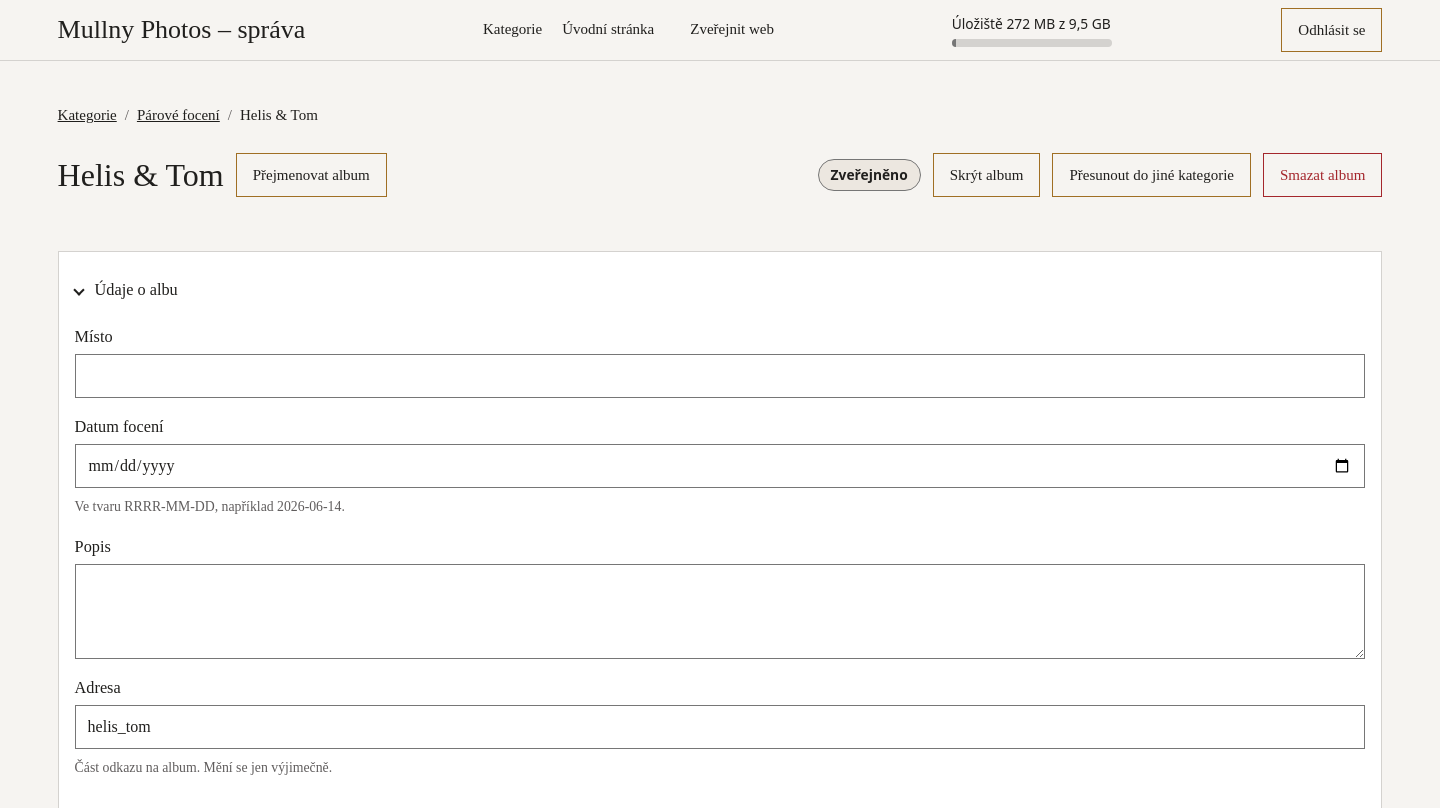
delete album › deletes photos first, then the row, and goes to the category; storage lowers
This screenshot has width=1440, height=808.
Expected: the heading "Helis & Tom" is shown, [58,156,224,194]
Click the button "Smazat album" at (1323, 175), box [1263,153,1382,197]
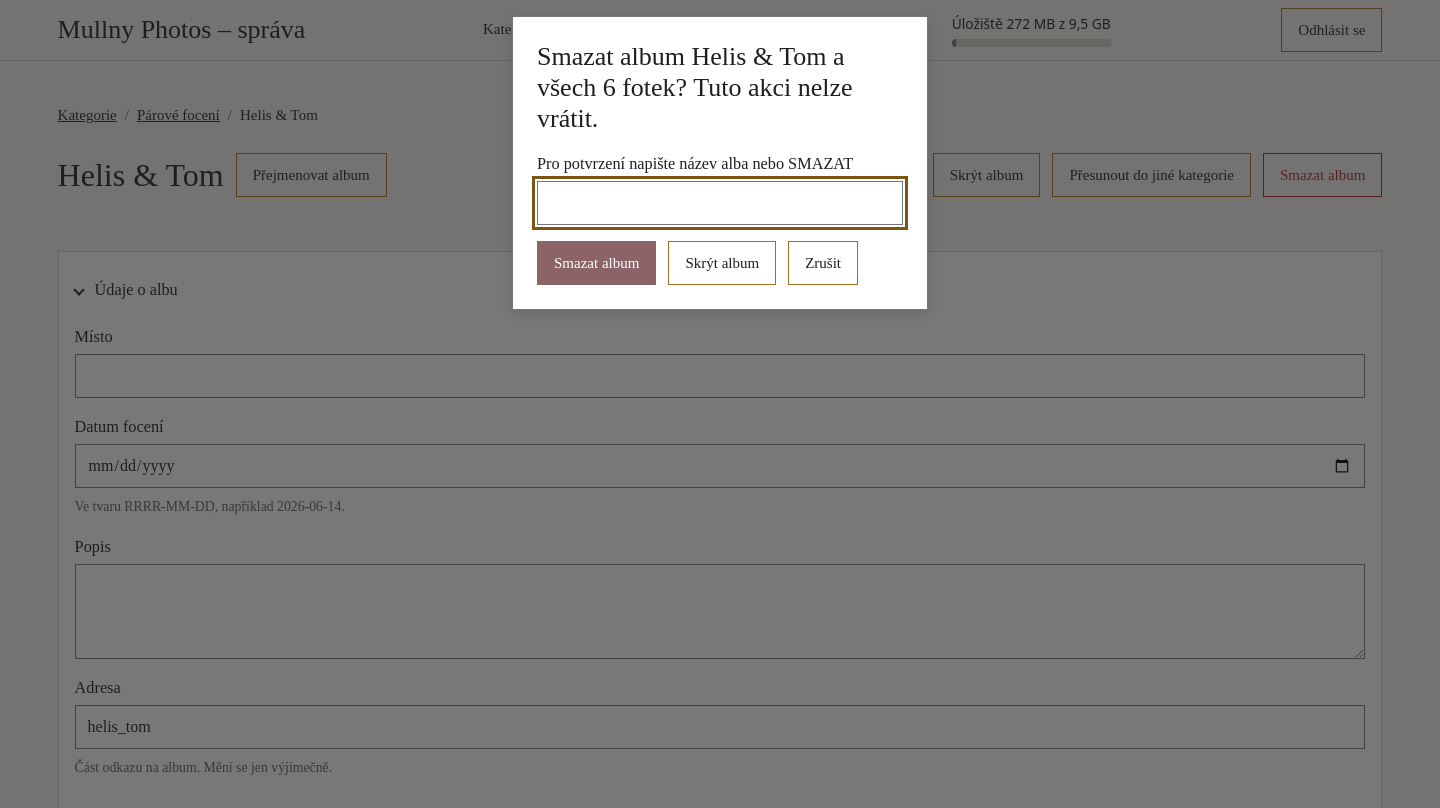
Type "nesprávně" into the field labelled "Pro potvrzení napište název alba nebo SMAZAT" at (720, 203), box [537,181,903,225]
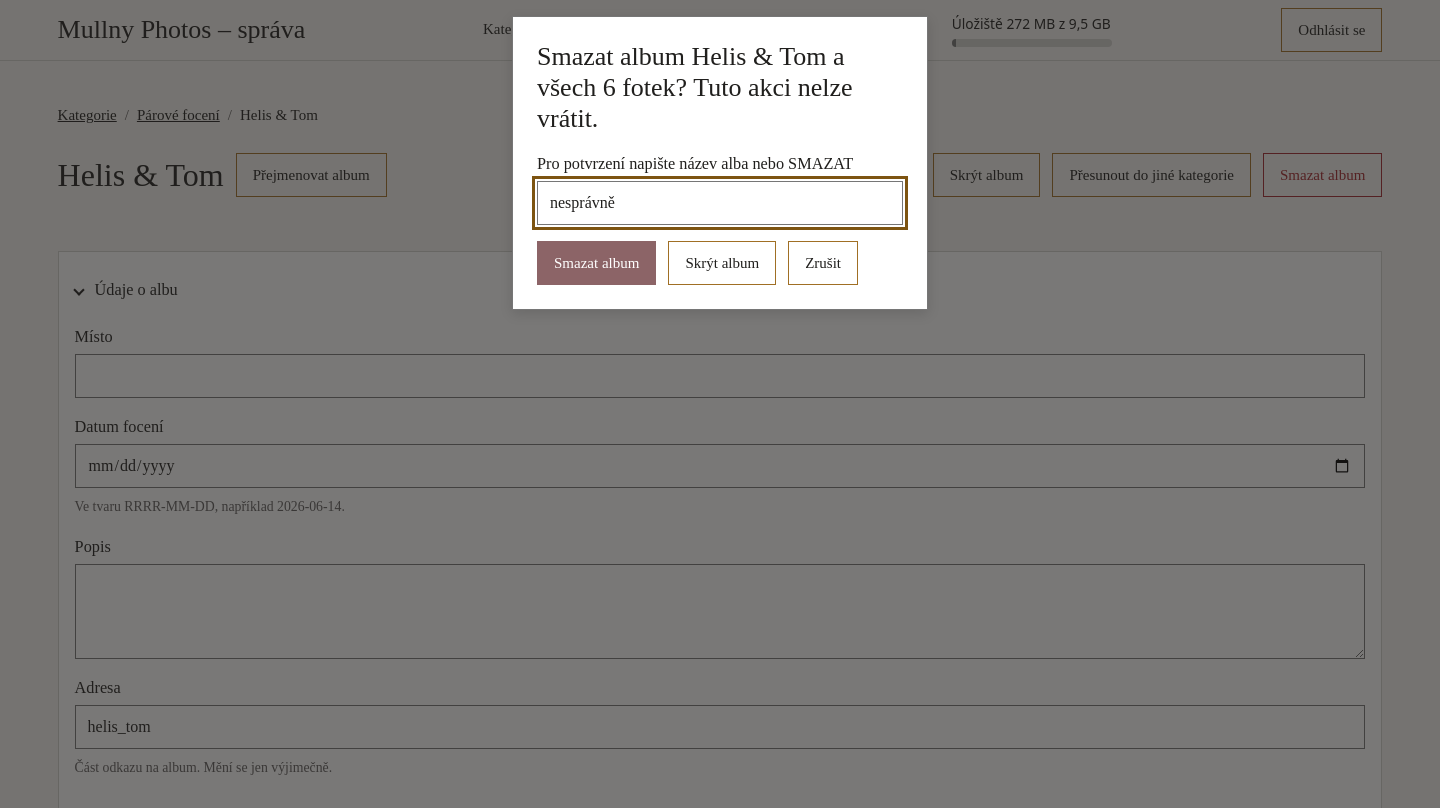
Replace the text in the field labelled "Pro potvrzení napište název alba nebo SMAZAT" with "SMAZAT" at (720, 203), box [537,181,903,225]
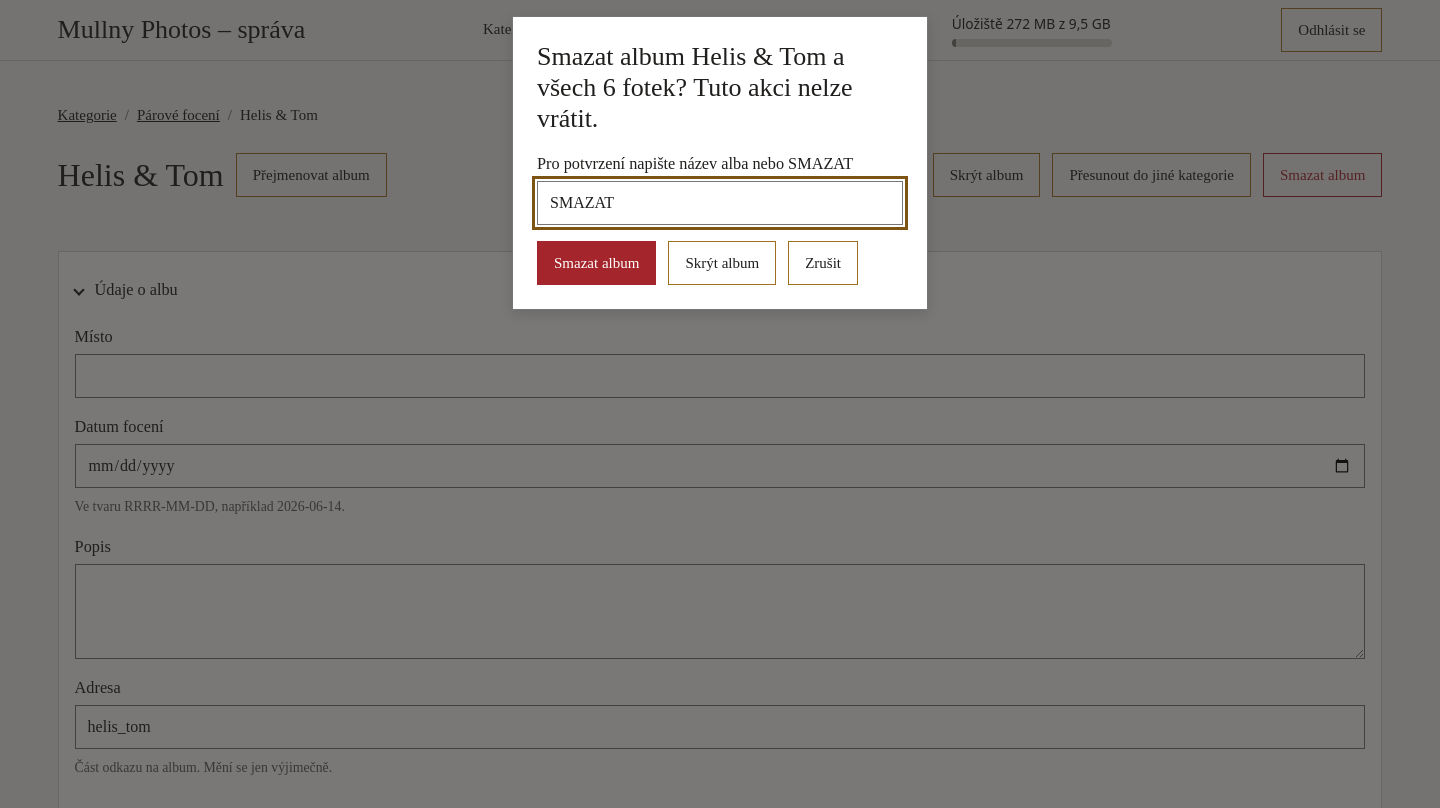
Click the button "Smazat album" at (597, 263), box [537,241,656,285]
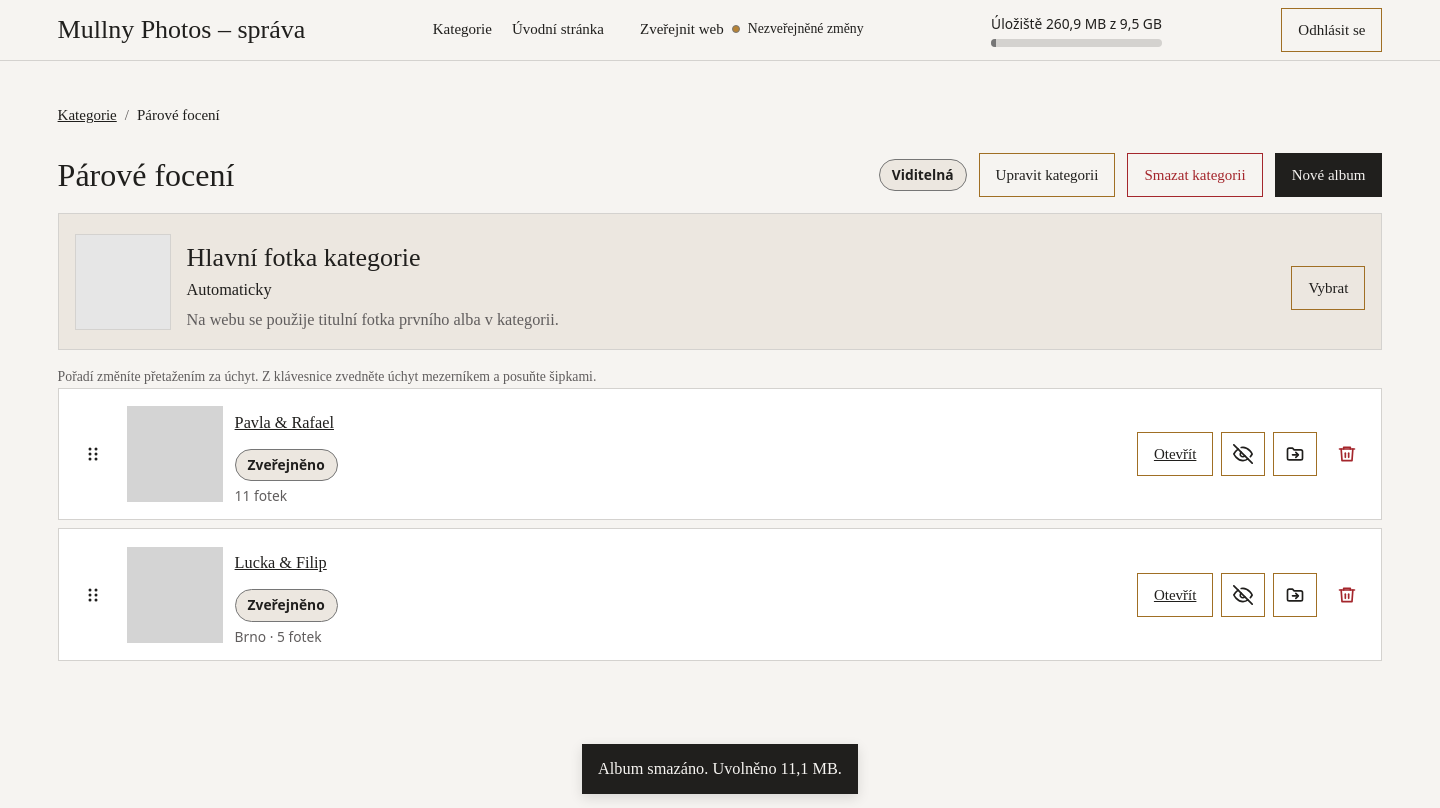
Expected: the text "Album smazáno. Uvolněno 11,1 MB." is shown, [582,744,858,794]
Expected: the heading "Párové focení" is shown, [58,156,234,194]
